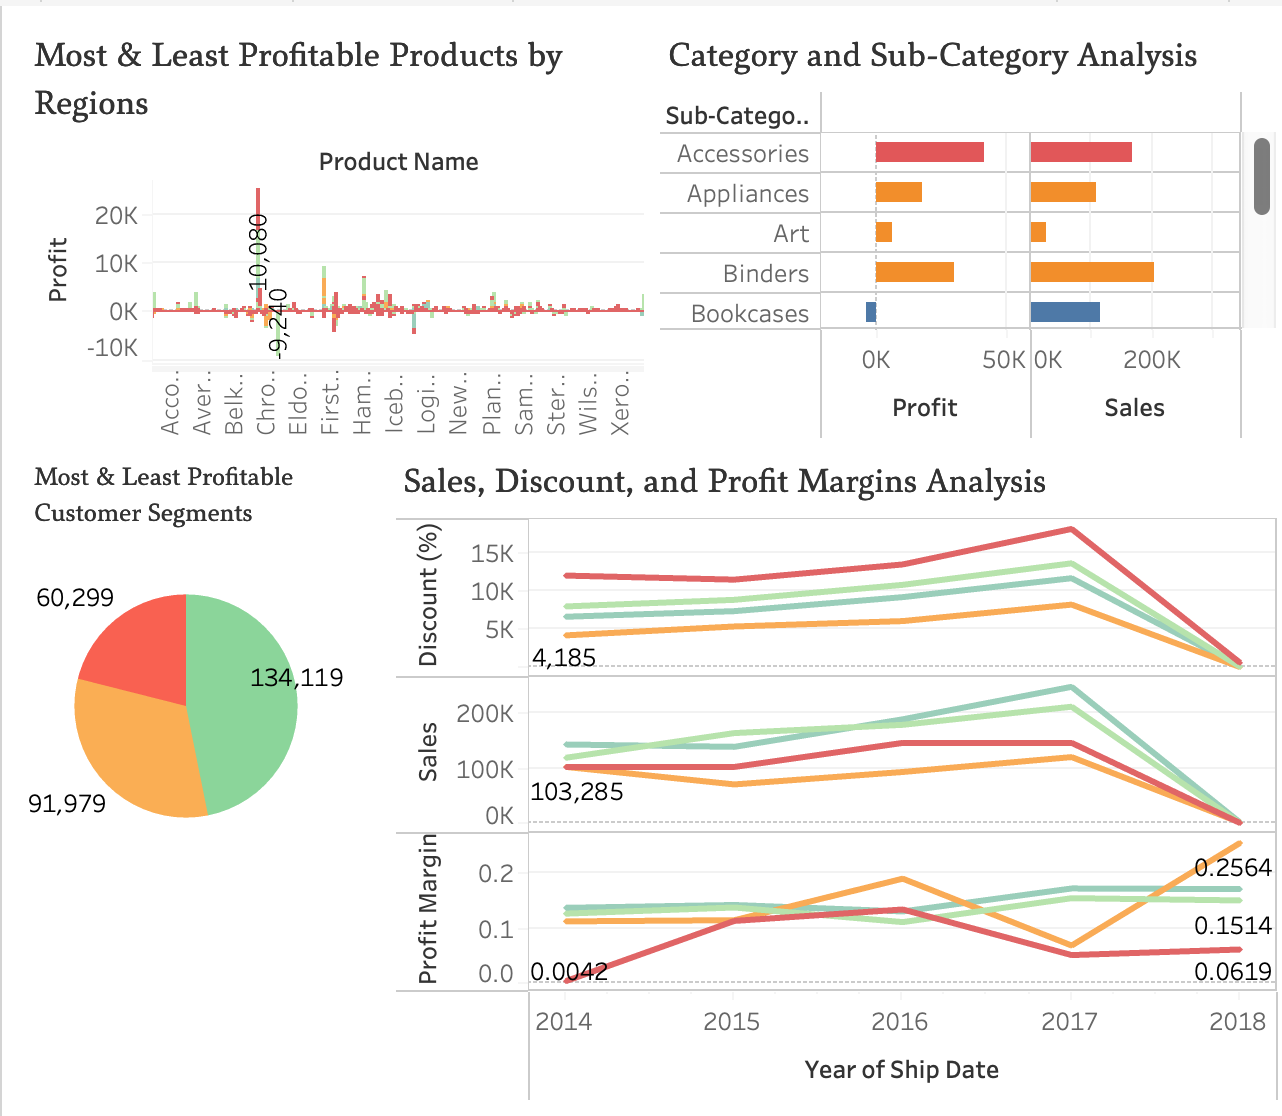

The dashboard page shown, as its layout file describes it:
{"tool":"tableau","page":{"name":"Dashboard 1","canvas":[650,860],"ordinal":0},"visuals":[{"type":"worksheet","title":"Most Profitable Products","mark":"Automatic","rows":["Profit"],"cols":["Product Name"],"box":[8,10,317,266.9]},{"type":"worksheet","title":"Category and Sub-Category Analysis","mark":"Automatic","rows":["Sub-Category"],"cols":["Profit","Sales"],"box":[325,10,317,266.9]},{"type":"worksheet","title":"Most & Least Profitable Customer Segments","mark":"Pie","box":[8,276.9,185.3,414.1]},{"type":"worksheet","title":"Sales, Discount, and Profit Margins Analysis","mark":"Automatic","rows":["Calculation_4604578842350493697","Sales","Calculation_4604578842350039040"],"cols":["Ship Date"],"box":[193.3,276.9,448.6,414.1]},{"type":"text","box":[8,691,634,159]}]}

Visuals, with their boxes on the page's 650x860 design canvas (x1, y1, x2, y2). These are canvas units, not pixel positions in the 1282x1116 screenshot, which may show the page scaled, cropped or inside an application window:
"Most Profitable Products" worksheet: 8,10,325,277
"Category and Sub-Category Analysis" worksheet: 325,10,642,277
"Most & Least Profitable Customer Segments" worksheet (Pie marks): 8,277,193,691
"Sales, Discount, and Profit Margins Analysis" worksheet: 193,277,642,691
text: 8,691,642,850
